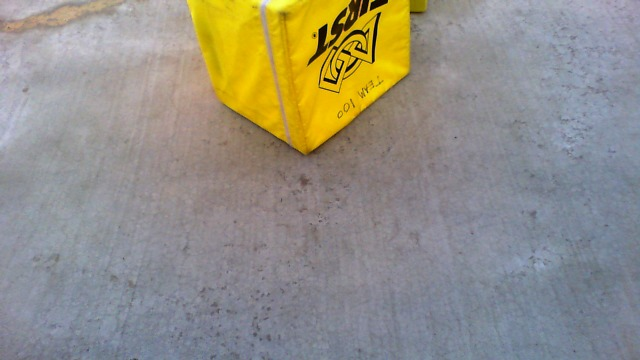cube: (184, 1, 409, 154), (410, 1, 427, 16)
